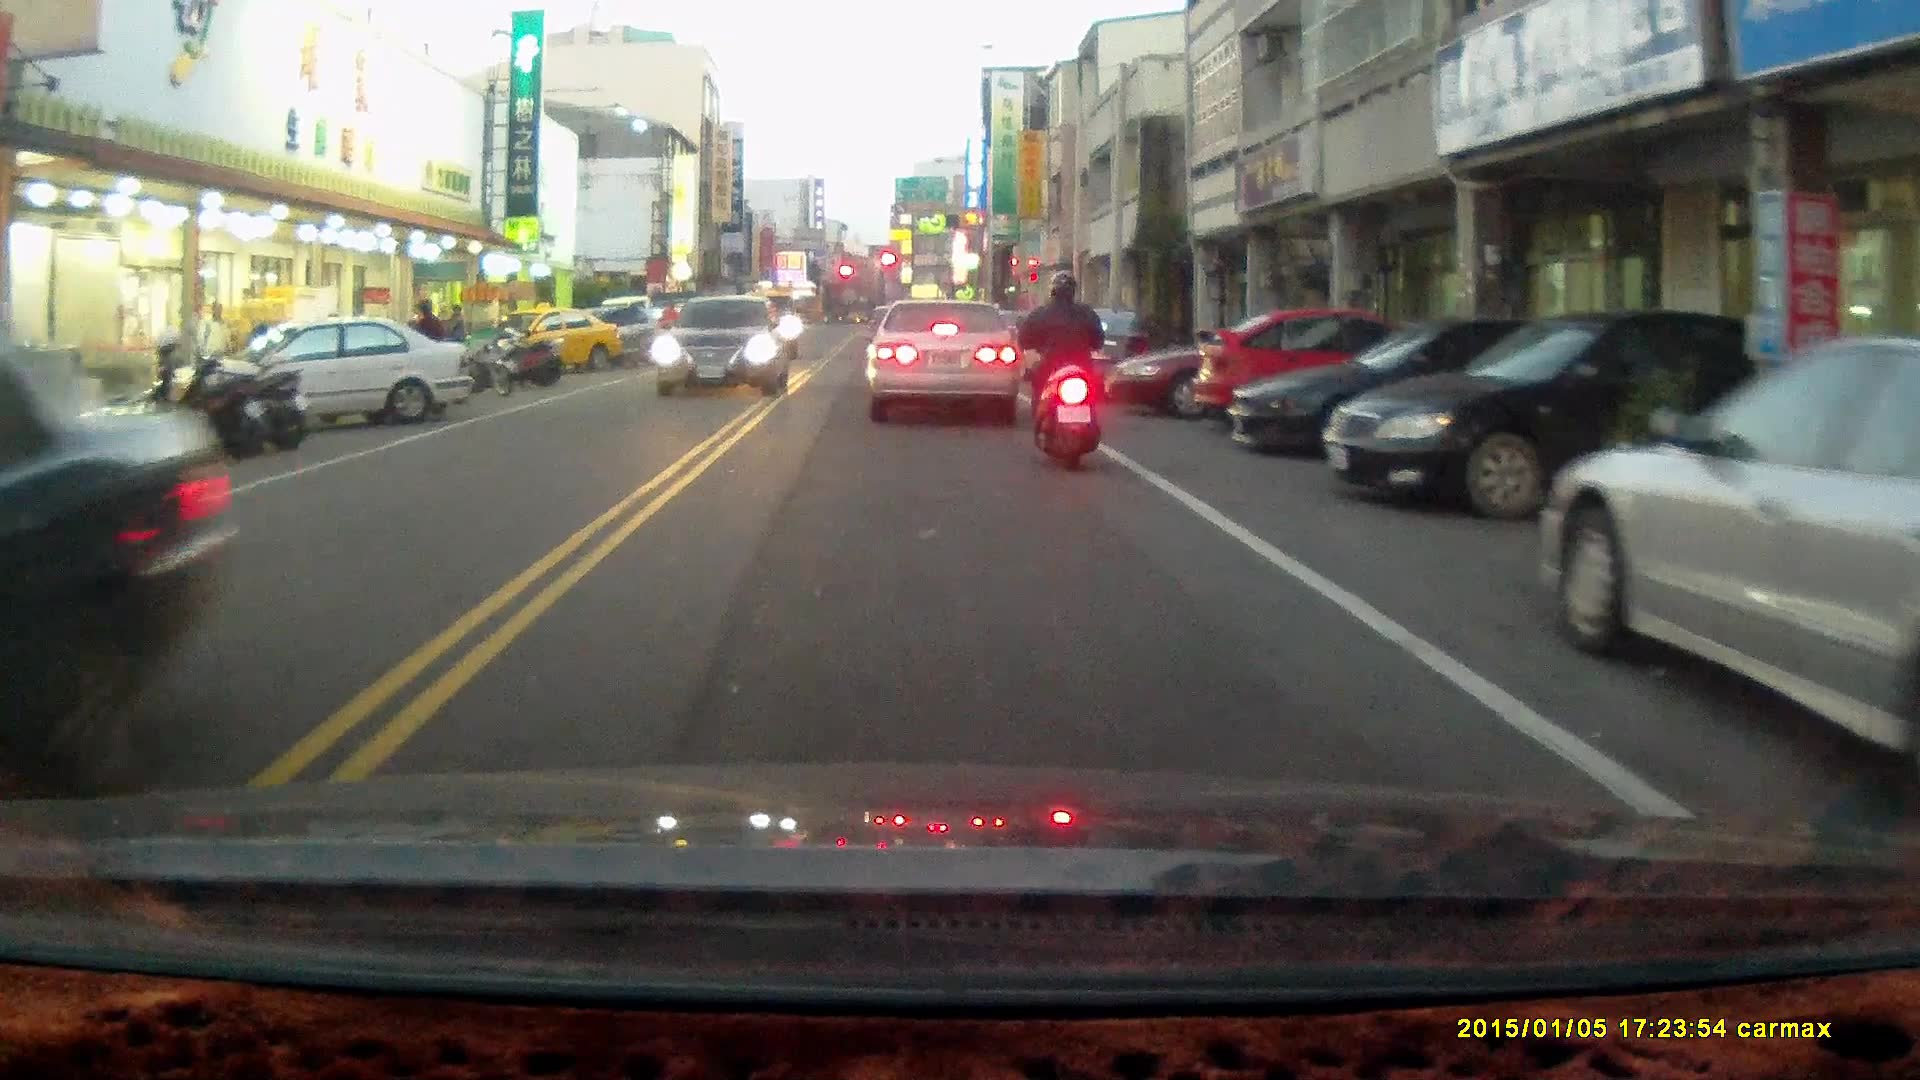pedestrian: (201, 300, 233, 396), (414, 295, 449, 385)
rider: (1015, 267, 1107, 473), (648, 296, 685, 370)
vehicle: (1545, 331, 1920, 821), (1, 312, 244, 795), (1323, 306, 1761, 520), (1230, 308, 1623, 459), (1191, 302, 1446, 432), (209, 307, 472, 433), (1109, 305, 1415, 411), (867, 295, 1025, 424), (657, 288, 793, 398), (508, 304, 630, 378)
